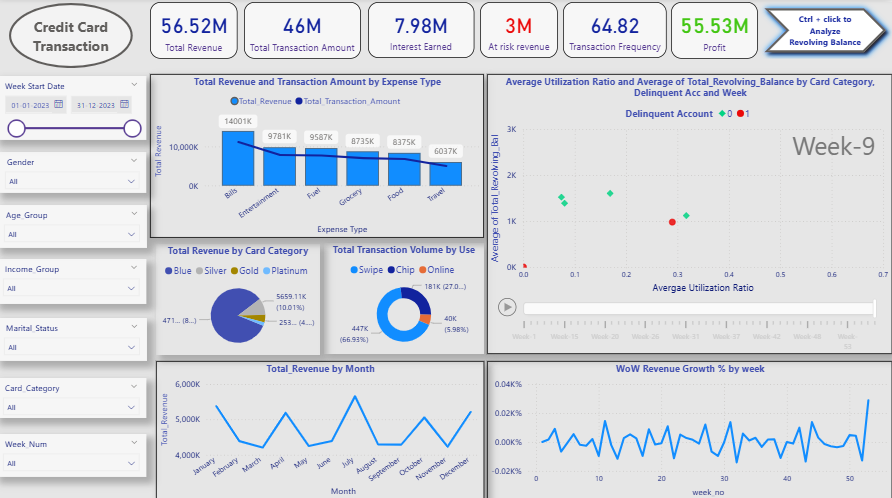

This screenshot's page, from the dashboard's own definition file:
{"tool":"powerbi","page":{"name":"Credit Card Transaction Report","canvas":[1280,720],"ordinal":0},"visuals":[{"type":"slicer","fields":{"Values":["customer.Gender"]},"box":[3,214.1,212.1,57.6],"z":0},{"type":"slicer","fields":{"Values":["customer.Age_Group"]},"box":[1.1,290.4,213.8,60.6],"z":1000},{"type":"card","fields":{"Values":["CreditCard.Total_Revenue"]},"box":[220.2,0,125.3,80.8],"z":2000},{"type":"card","fields":{"Values":["CreditCard.Total_Transaction_Amount"]},"box":[354.5,0,166.7,80.8],"z":3000},{"type":"card","fields":{"Values":["Sum(CreditCard.Interest_Earned)"]},"box":[531.3,0,151.5,79.8],"z":4000},{"type":"slicer","fields":{"Values":["customer.Income_Group"]},"box":[0,367,214.9,63.8],"z":5000},{"type":"slicer","fields":{"Values":["customer.Marital_Status"]},"box":[1.1,452.1,213.8,60.6],"z":6000},{"type":"slicer","fields":{"Values":["CreditCard.Card_Category"]},"box":[0,537.2,214.9,57.4],"z":7000},{"type":"slicer","fields":{"Values":["CreditCard.Week_Start_Date"]},"box":[0,106.1,215.2,90.9],"z":8000},{"type":"card","fields":{"Values":["CreditCard.Avg_trans_per_cust"]},"box":[810.1,0,148.5,79.8],"z":9000},{"type":"pieChart","title":"Total Revenue by Card Category","fields":{"Category":["CreditCard.Card_Category"],"Y":["CreditCard.Total_Revenue"]},"box":[228.3,345.5,234.3,157.6],"z":10000},{"type":"lineChart","fields":{"Category":["CreditCard.Week_Start_Date.Variation.Date Hierarchy.Quarter","CreditCard.Week_Start_Date.Variation.Date Hierarchy.Month","CreditCard.Week_Start_Date.Variation.Date Hierarchy.Day"],"Y":["CreditCard.Total_Revenue"]},"box":[228.3,513.1,468.7,199],"z":11000},{"type":"donutChart","title":"Total Transaction Volume by Use","fields":{"Category":["CreditCard.Use Chip"],"Y":["Sum(CreditCard.Total_Trans_Vol)"]},"box":[468.7,344.4,228.3,157.6],"z":12000},{"type":"slicer","fields":{"Values":["CreditCard.Week_Num"]},"box":[0,616.5,215.3,61.2],"z":13000},{"type":"lineClusteredColumnComboChart","title":"Total Revenue and Transaction Amount  by Expense Type","fields":{"Category":["CreditCard.Exp Type"],"Y":["CreditCard.Total_Revenue"],"Y2":["CreditCard.Total_Transaction_Amount"]},"box":[220.2,103,476.8,234.3],"z":14000},{"type":"scatterChart","title":"Average Utilization Ratio and Average of Total_Revolving_Balance by Card Category, Delinquent Acc and Week","fields":{"X":["Avg(CreditCard.Avg_Utilization_Ratio)"],"Y":["Avg(CreditCard.Total_Revolving_Bal)"],"Series":["CreditCard.Delinquent_Acc"],"Play":["CreditCard.Week_Num"],"Category":["CreditCard.Card_Category"]},"box":[701.2,102.4,578.8,400],"z":15000},{"type":"card","fields":{"Values":["CreditCard.At_risk_revenue"]},"box":[690.9,0,111.1,79.8],"z":16000},{"type":"lineChart","title":"WoW Revenue Growth % by week","fields":{"Y":["CreditCard.WoW Revenue Growth %"],"Category":["CreditCard.week_no"]},"box":[701.1,512.8,578.7,200],"z":17000},{"type":"actionButton","box":[18.2,1,176.8,92.9],"z":18000},{"type":"actionButton","box":[1087.9,0,191.9,80.8],"z":19000},{"type":"card","fields":{"Values":["CreditCard.Profit"]},"box":[963.6,0,124.2,80.8],"z":20000}]}

Visuals, with their boxes in screenshot pixels (x1, y1, x2, y2), scaled from the page's 1280x720 canvas onto the 892x498 screenshot:
slicer - customer.Gender: box=[2, 148, 150, 188]
slicer - customer.Age_Group: box=[1, 201, 150, 243]
card - CreditCard.Total_Revenue: box=[153, 0, 241, 56]
card - CreditCard.Total_Transaction_Amount: box=[247, 0, 363, 56]
card - Sum(CreditCard.Interest_Earned): box=[370, 0, 476, 55]
slicer - customer.Income_Group: box=[0, 254, 150, 298]
slicer - customer.Marital_Status: box=[1, 313, 150, 355]
slicer - CreditCard.Card_Category: box=[0, 372, 150, 411]
slicer - CreditCard.Week_Start_Date: box=[0, 73, 150, 136]
card - CreditCard.Avg_trans_per_cust: box=[565, 0, 668, 55]
"Total Revenue by Card Category" pieChart: box=[159, 239, 322, 348]
lineChart - CreditCard.Week_Start_Date.Variation.Date Hierarchy.Quarter x CreditCard.Week_Start_Date.Variation.Date Hierarchy.Month: box=[159, 355, 486, 493]
"Total Transaction Volume by Use" donutChart: box=[327, 238, 486, 347]
slicer - CreditCard.Week_Num: box=[0, 426, 150, 469]
"Total Revenue and Transaction Amount  by Expense Type" lineClusteredColumnComboChart: box=[153, 71, 486, 233]
"Average Utilization Ratio and Average of Total_Revolving_Balance by Card Category, Delinquent Acc and Week" scatterChart: box=[489, 71, 891, 347]
card - CreditCard.At_risk_revenue: box=[481, 0, 559, 55]
"WoW Revenue Growth % by week" lineChart: box=[489, 355, 891, 493]
actionButton: box=[13, 1, 136, 65]
actionButton: box=[758, 0, 891, 56]
card - CreditCard.Profit: box=[672, 0, 758, 56]
